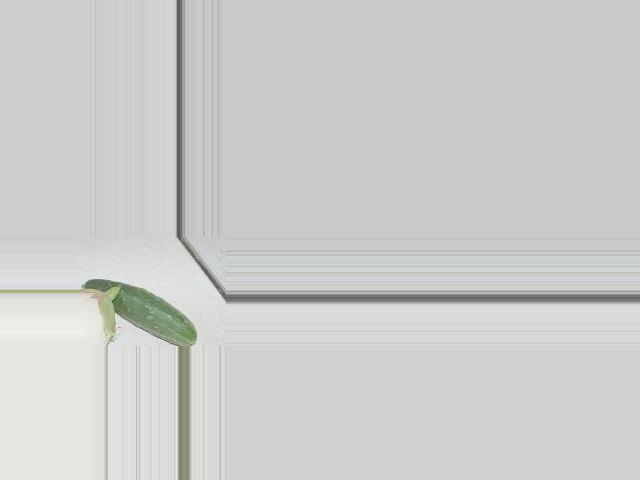cucumber: (81, 279, 197, 347)
